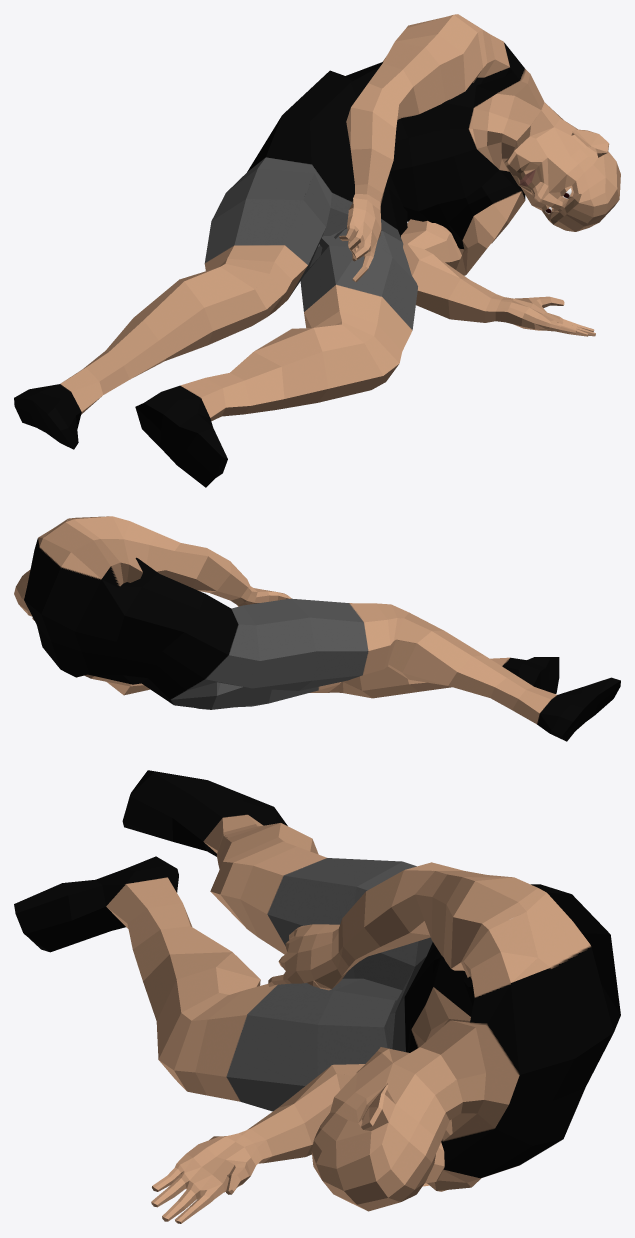
The model's file is PlayerDead(92).obj.
3 views of the same model, one above another, from view 1: azimuth 30°, elevation 25°; view 2: azimuth 150°, elevation 25°; view 3: azimuth 270°, elevation 25° (orthographic). The views are drawn at different scales.
Visible parts, largest first — view 1: Plane002; view 2: Plane002; view 3: Plane002.
Part boxes in pixels (x1,y1,x2,y2): Plane002: (14,14,620,487); Plane002: (14,516,620,741); Plane002: (14,770,620,1223).
Bounding box in the file's own units: 1576 × 552 × 926.
